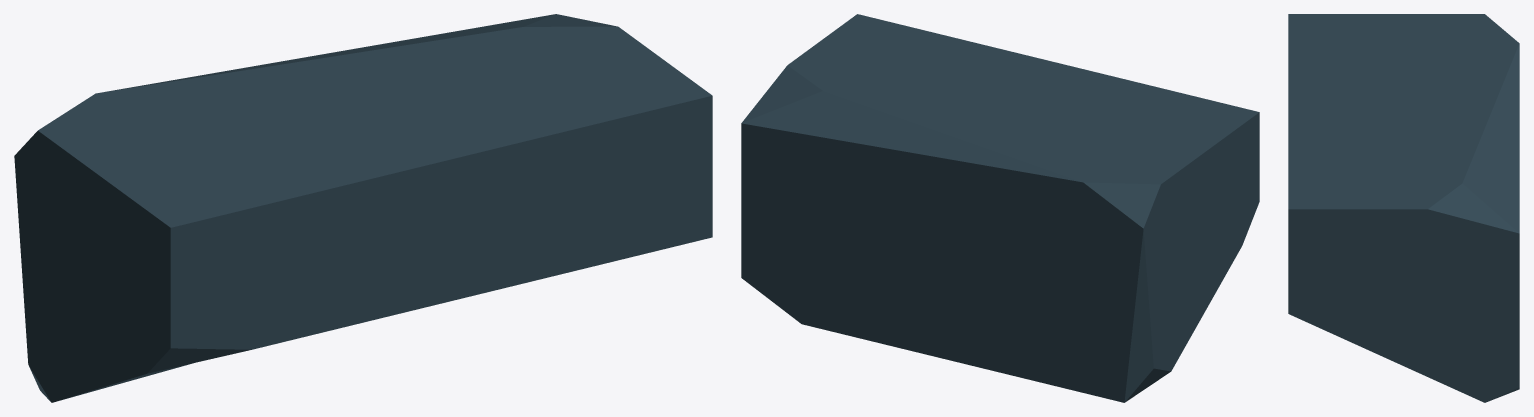
File: ceiling_element_shallow_slope_1x2.fbx
3 renders of one model, left to right at view 1: azimuth 30°, elevation 25°; view 2: azimuth 150°, elevation 25°; view 3: azimuth 270°, elevation 25°, orthographic. The views are drawn at different scales.
Parts seen in each view (by area): view 1: ceiling_element_shallow_slope_1x2; view 2: ceiling_element_shallow_slope_1x2; view 3: ceiling_element_shallow_slope_1x2.
Part boxes in pixels (box(x1,y1,x2,y2)): ceiling_element_shallow_slope_1x2: box(14, 14, 712, 402); ceiling_element_shallow_slope_1x2: box(741, 14, 1259, 402); ceiling_element_shallow_slope_1x2: box(1288, 14, 1519, 402).
Bounding box in the file's own units: 200 × 100 × 100.
